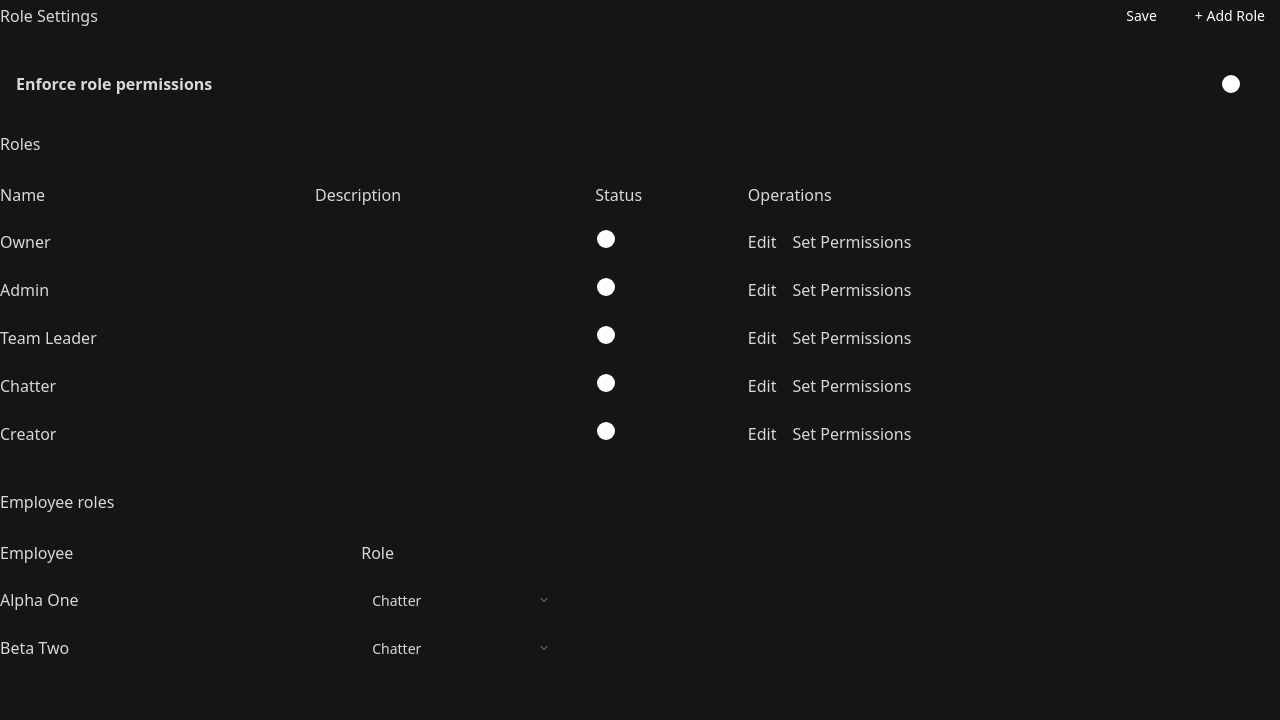
it: RoleSettingsTab › adding "Alpha Role" sends one PUT of every role, the new one deny-all with scope self, and closes the modal
The width and height of the screenshot is (1280, 720).
Click the button "+ Add Role". click: coordinates (1230, 16)
box: [1180, 0, 1279, 32]
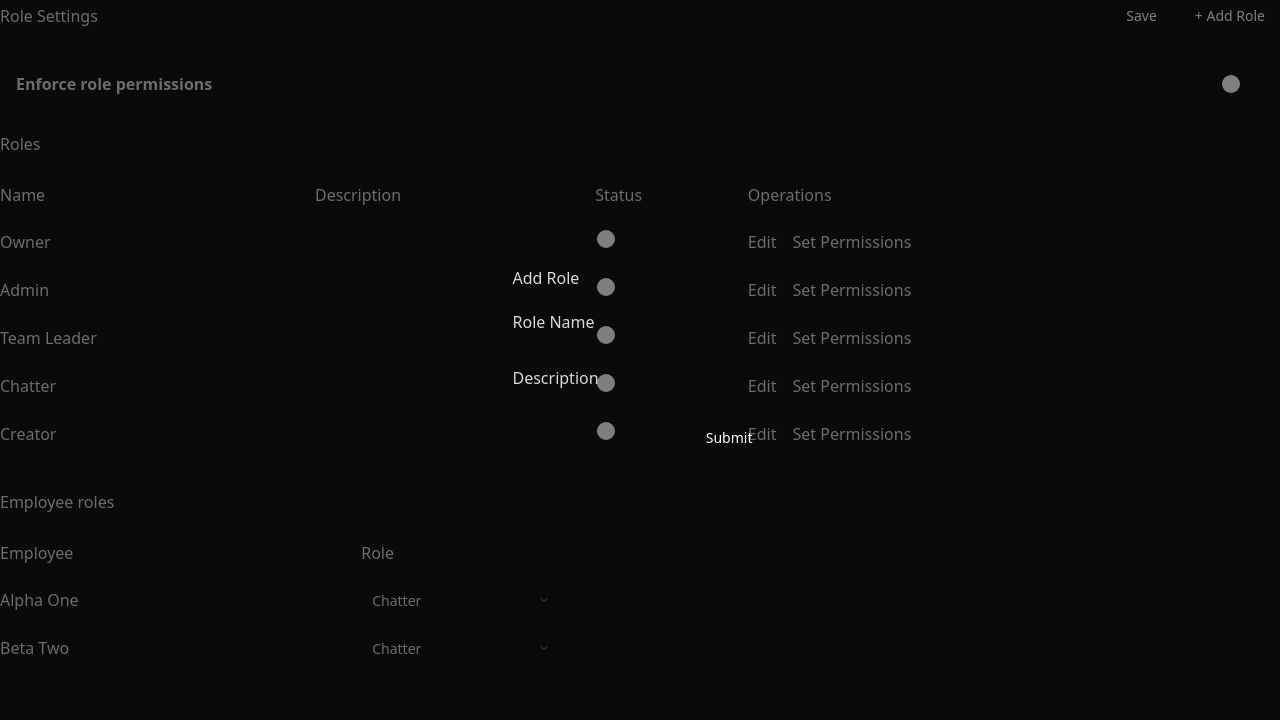
Type "Alpha Role" into the field labelled "Role Name". click: coordinates (640, 350)
box: [512, 334, 768, 366]
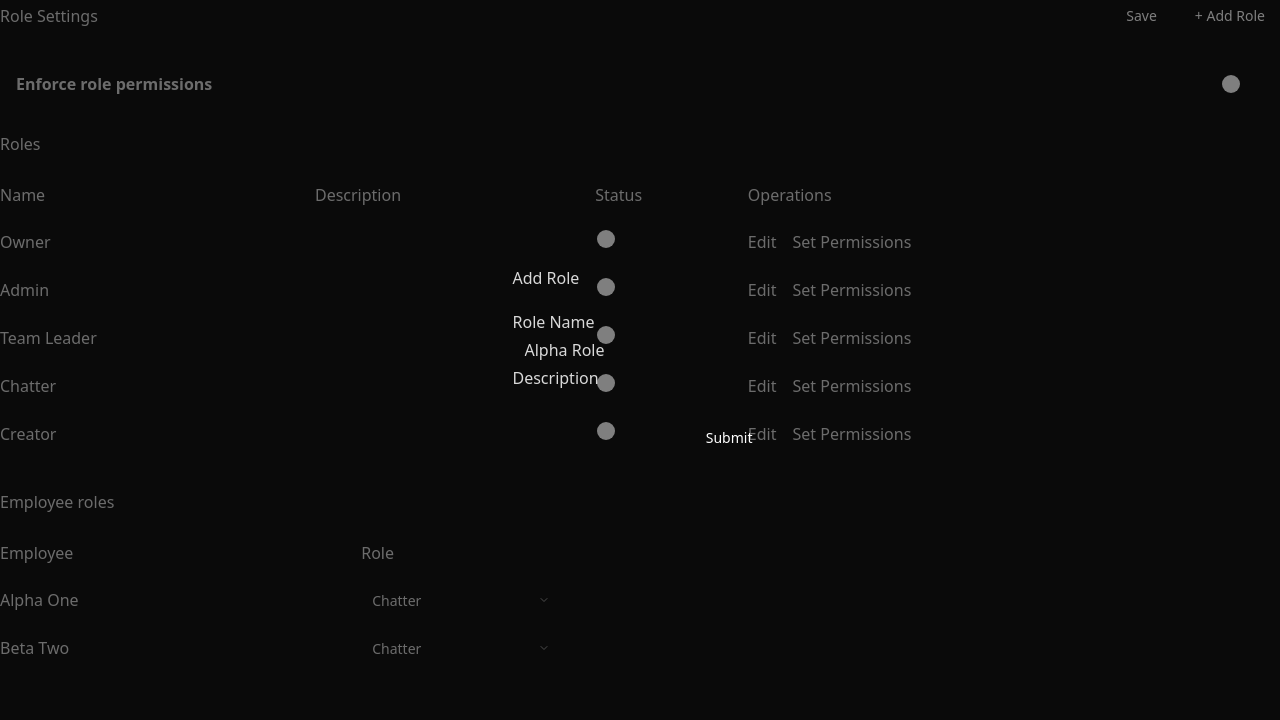
Type "Synthetic description" into the field labelled "Description". click: coordinates (640, 406)
box: [512, 390, 768, 422]
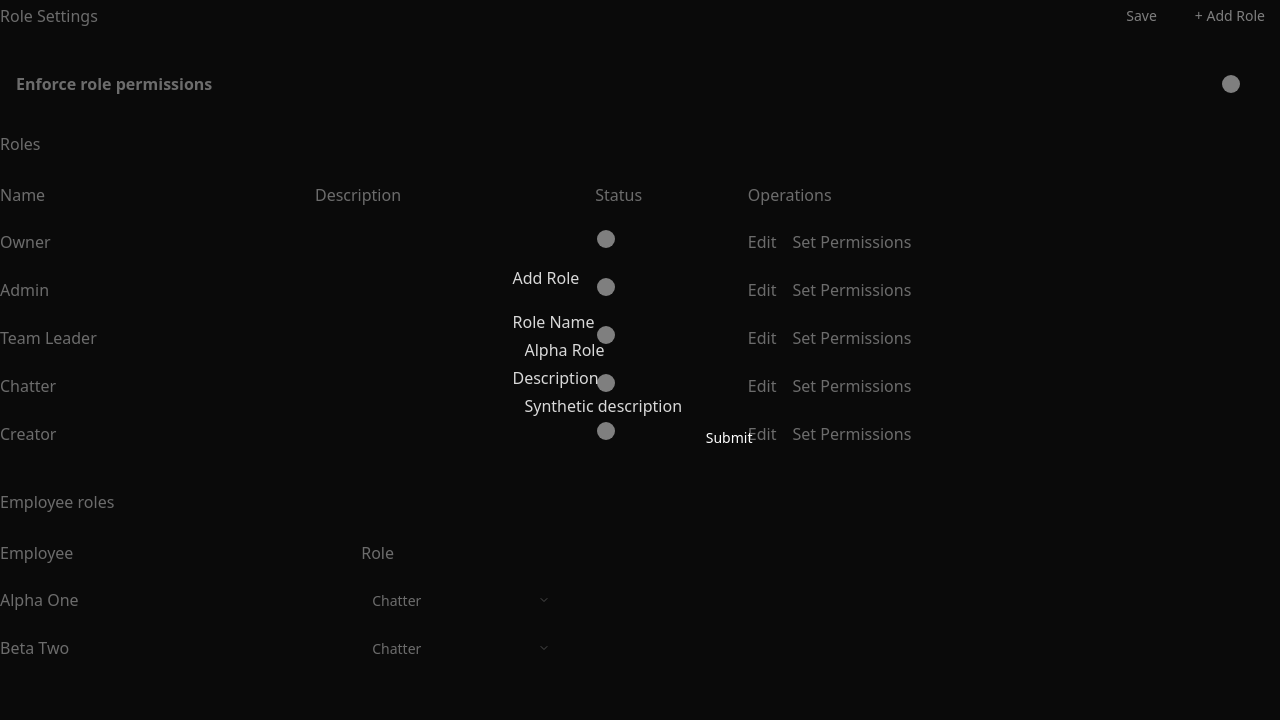
Click the button "Submit". click: coordinates (729, 438)
box: [691, 422, 768, 454]
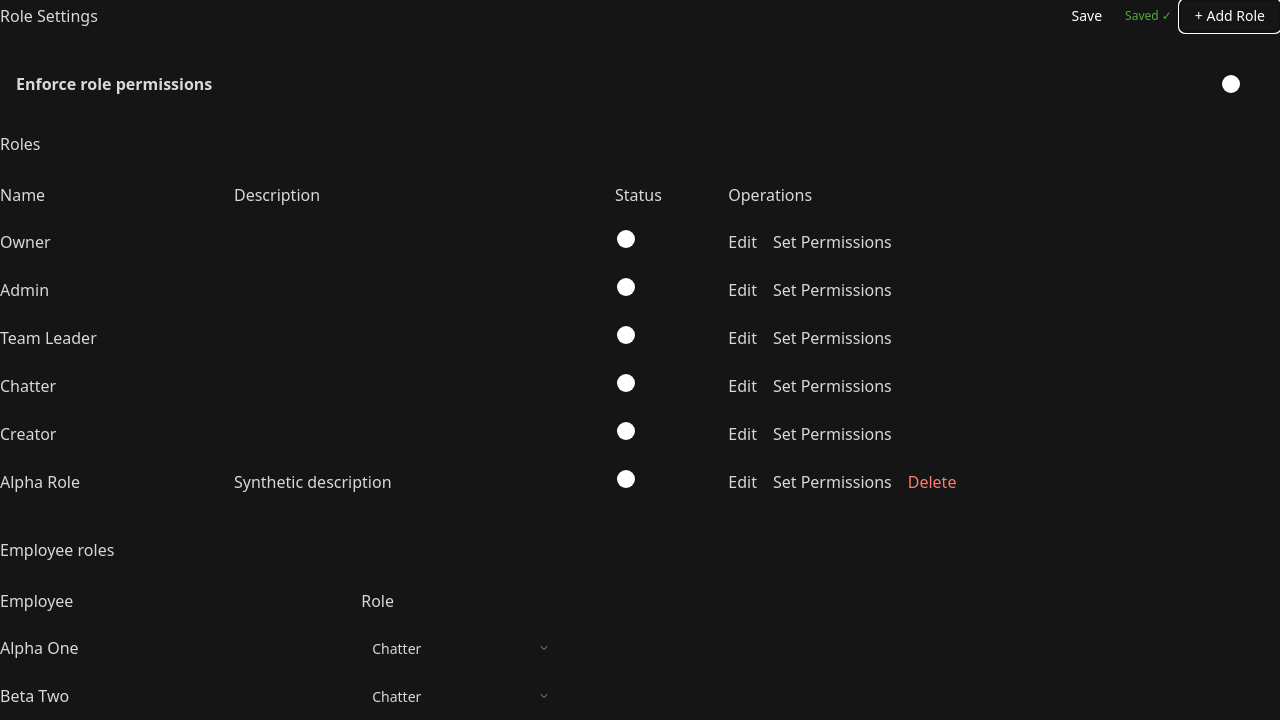
Expected: the dialog is gone
